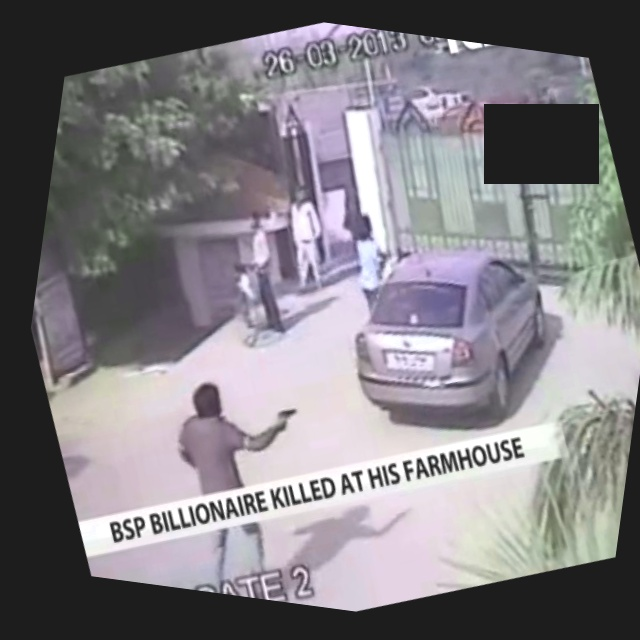gun: (266, 393, 309, 437)
